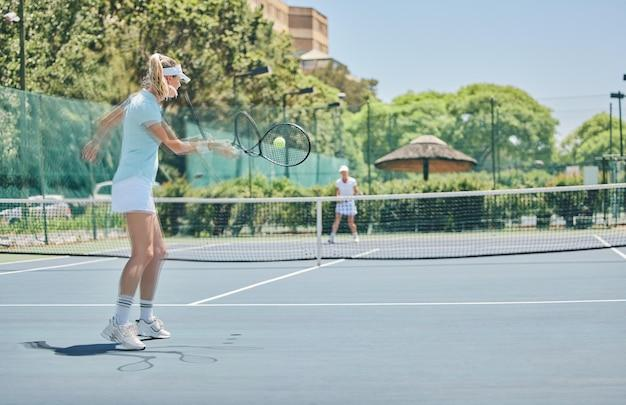ball_tennis: (274, 137, 286, 149)
